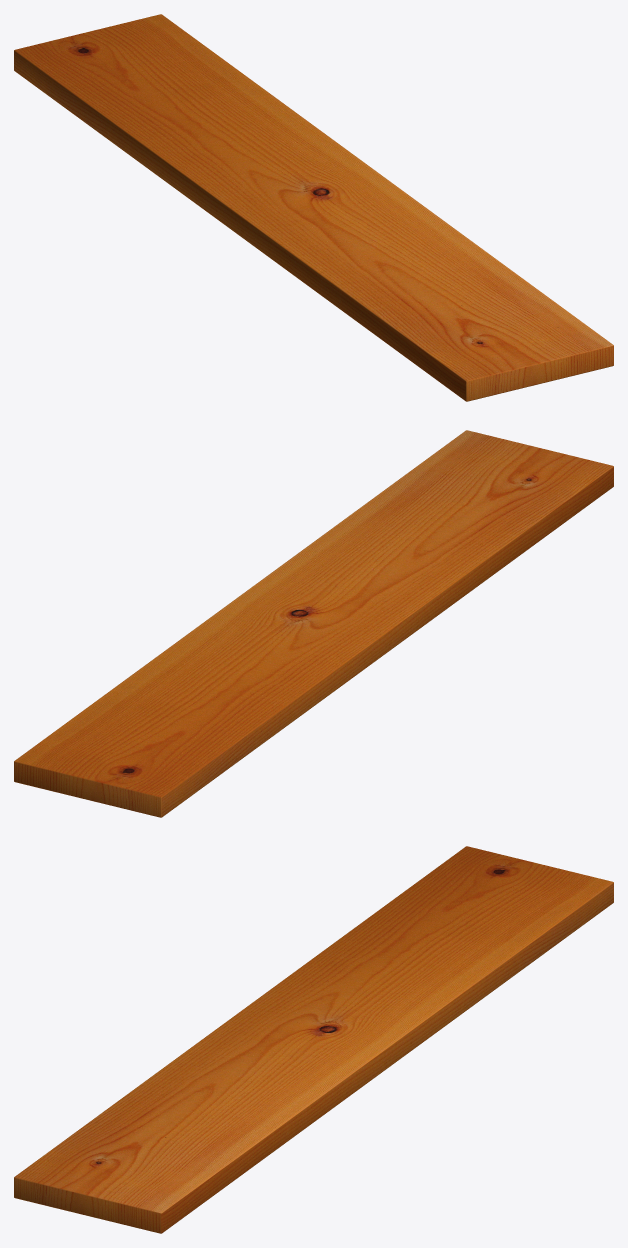
File: Plank1.fbx
3 views of the same model, one above another, from view 1: azimuth 30°, elevation 25°; view 2: azimuth 150°, elevation 25°; view 3: azimuth 330°, elevation 25° (orthographic).
Visible parts, largest first — view 1: Cube.002; view 2: Cube.002; view 3: Cube.002.
Boxes of the visible parts, x1,y1,x2,y2 form: Cube.002: [14, 14, 613, 401]; Cube.002: [14, 430, 613, 817]; Cube.002: [14, 846, 613, 1233].
Bounding box in the file's own units: 191 × 26.19 × 1011.
1 material, 1 textured.
